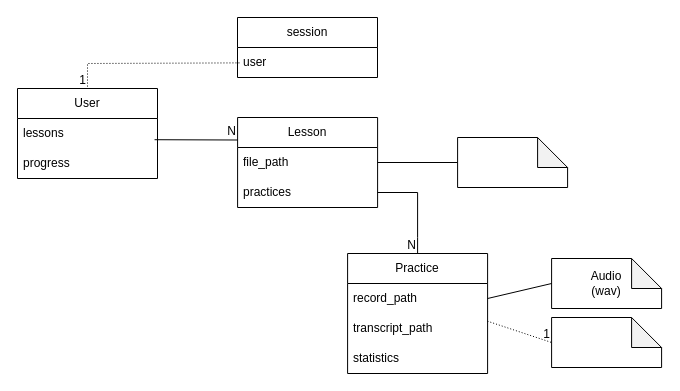
Some shapes in this 680 by 391 pixel diagram are drawn without their labels. The shapes that lost their labels are listed below. From the top down, each one's centre as x and y in pixels, then its label:
At point 512,162: "File (PDF)".
At point 606,342: "Text (txt)".
